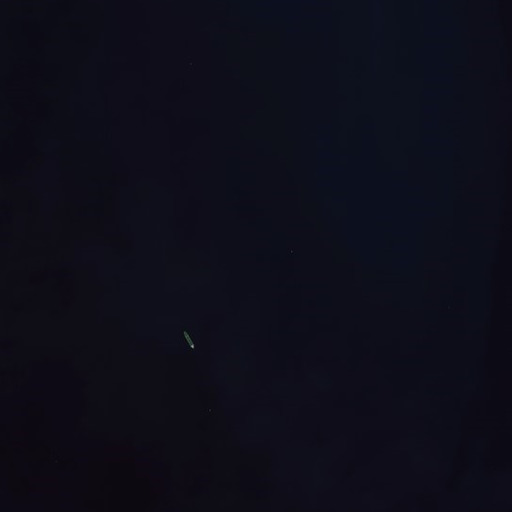ship: (178, 327, 198, 354)
